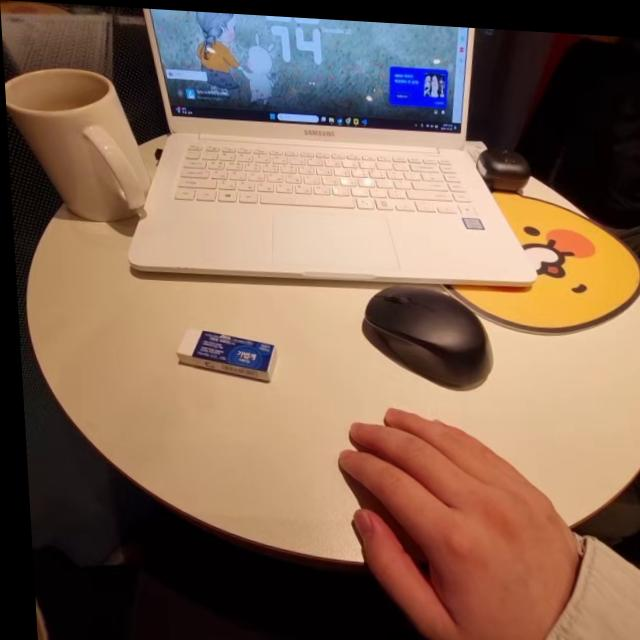eraser: (164, 321, 279, 386)
hand: (311, 392, 578, 640)
mouse: (356, 276, 508, 406)
